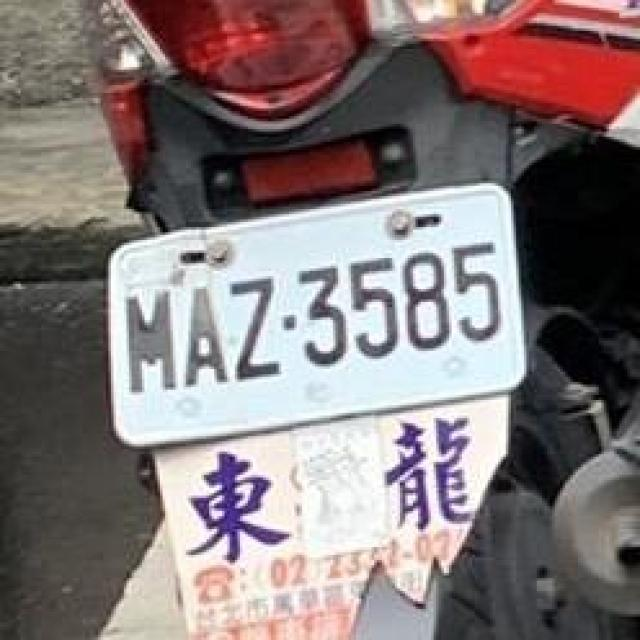W: (95, 160, 542, 459)
